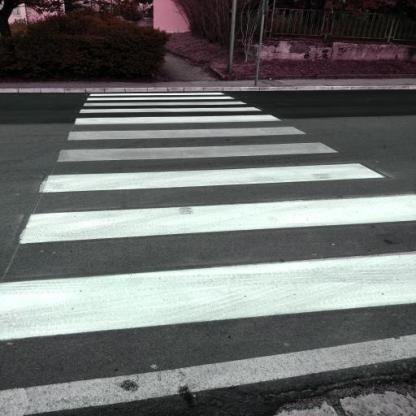crosswalk: (26, 140, 392, 197), (68, 105, 286, 127)
